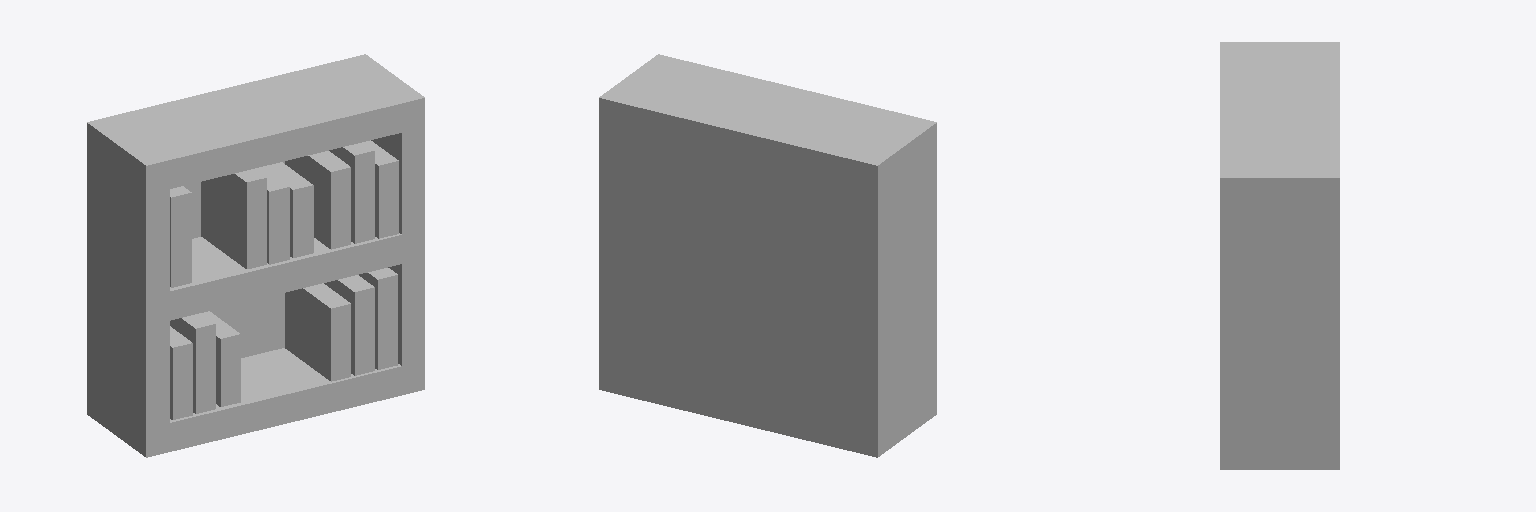
File: FM_bookshelf_2.obj
The picture shows the model from 3 angles: view 1: azimuth 30°, elevation 25°; view 2: azimuth 150°, elevation 25°; view 3: azimuth 270°, elevation 25°; orthographic projection.
Visible parts, largest first — view 1: Cube.003; view 2: Cube.003; view 3: Cube.003.
Part boxes in pixels (bbox=[...]): Cube.003: bbox=[87, 54, 424, 457]; Cube.003: bbox=[599, 54, 936, 457]; Cube.003: bbox=[1220, 42, 1339, 469].
Size of the model in its own units: 1 by 1 by 0.3703.